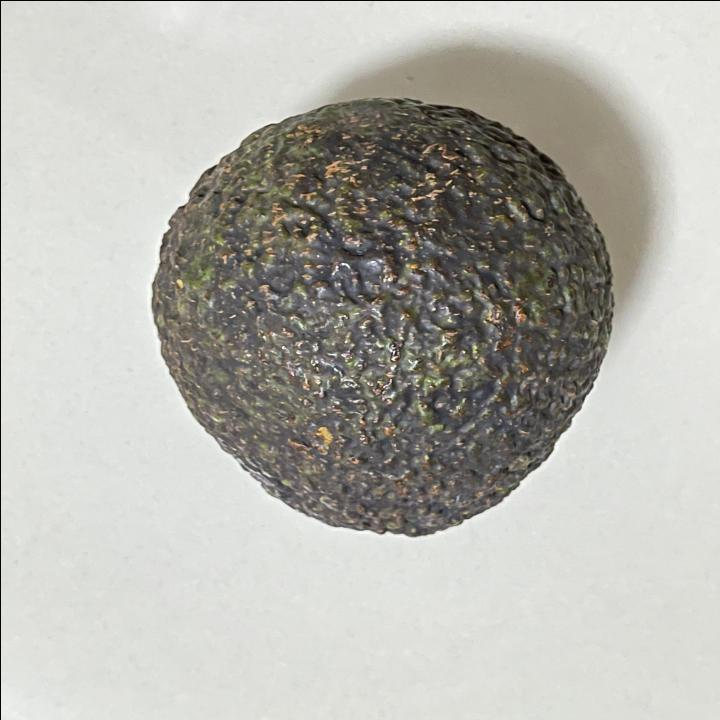Level1: (142, 89, 622, 554)
